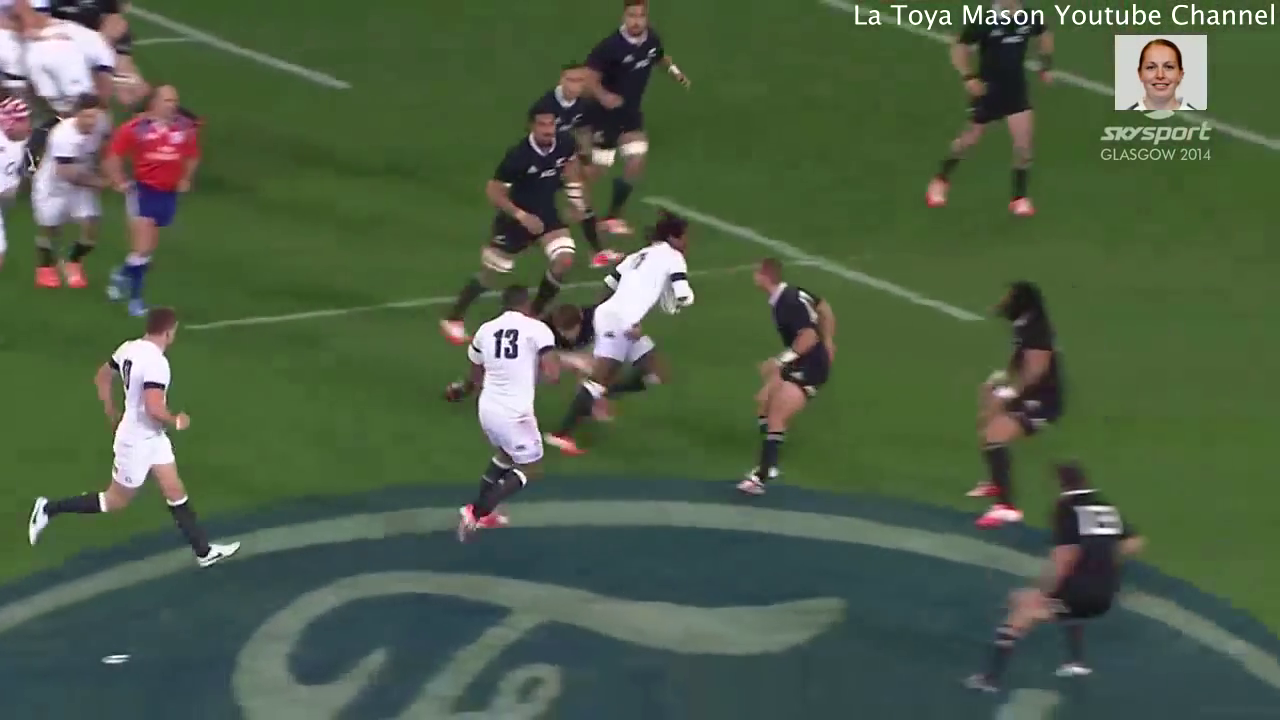ball: (648, 264, 693, 318)
player: (20, 296, 258, 577), (941, 448, 1144, 695), (542, 203, 703, 466), (424, 108, 590, 356), (550, 1, 701, 248), (721, 244, 845, 512), (925, 1, 1065, 222), (452, 276, 562, 553), (958, 265, 1069, 533), (99, 72, 209, 328), (517, 58, 627, 269), (20, 86, 125, 302), (18, 14, 129, 142)
